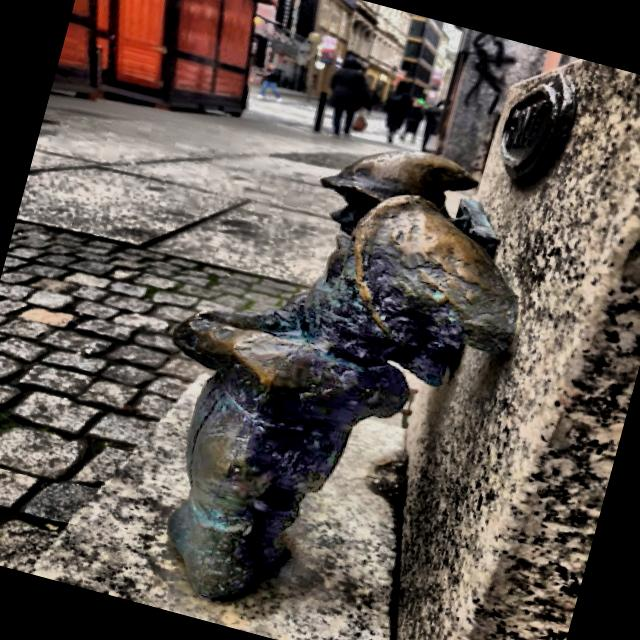Kantorki: (168, 152, 516, 600)
